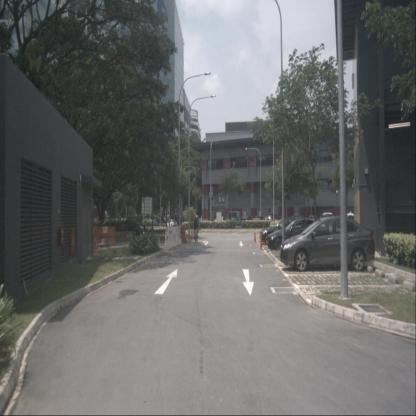barrier: (93, 226, 117, 247), (164, 226, 175, 251), (173, 227, 182, 246), (181, 225, 188, 244)
cone: (258, 234, 263, 250), (253, 230, 257, 243), (191, 230, 193, 240)
